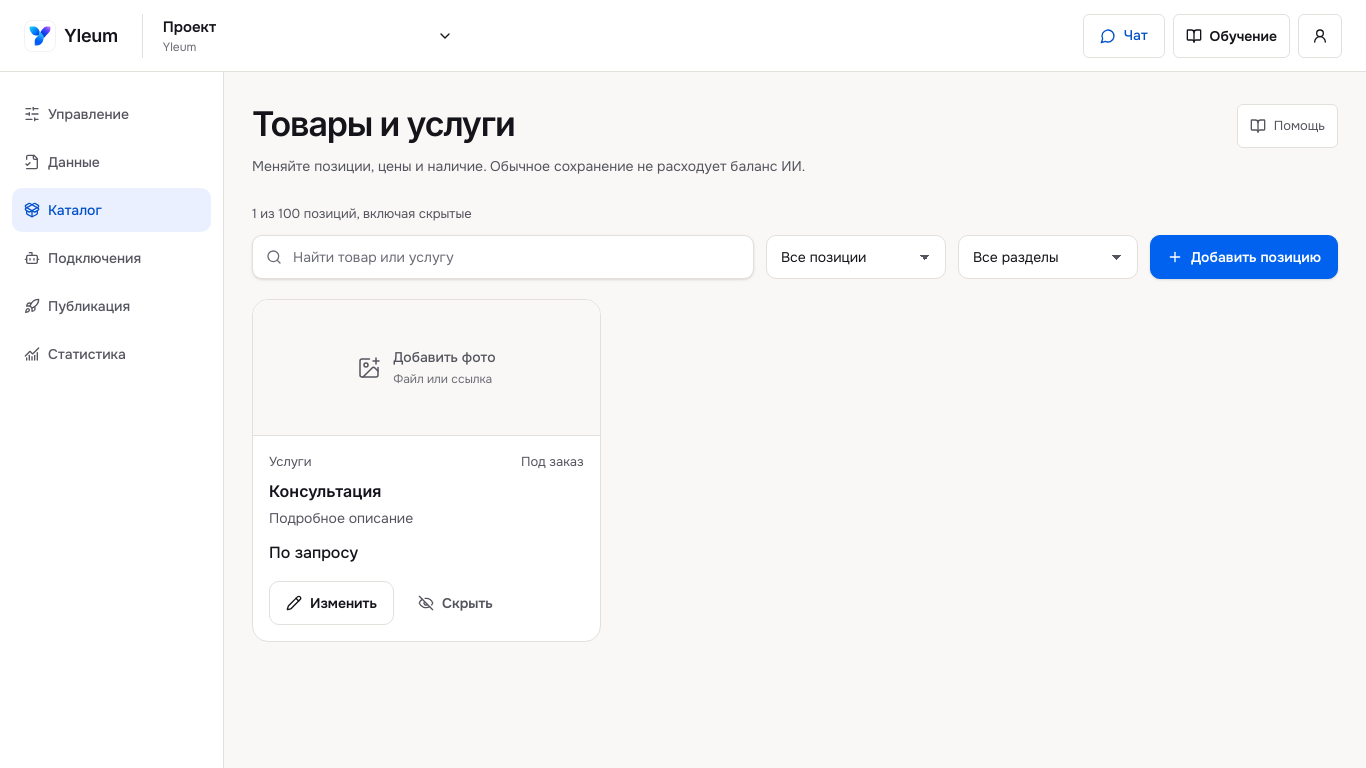
Test case: keeps the source catalog draft when the full configuration baseline has moved
Click the button "Скрыть". click: click(455, 603)
box: left=402, top=581, right=509, bottom=625
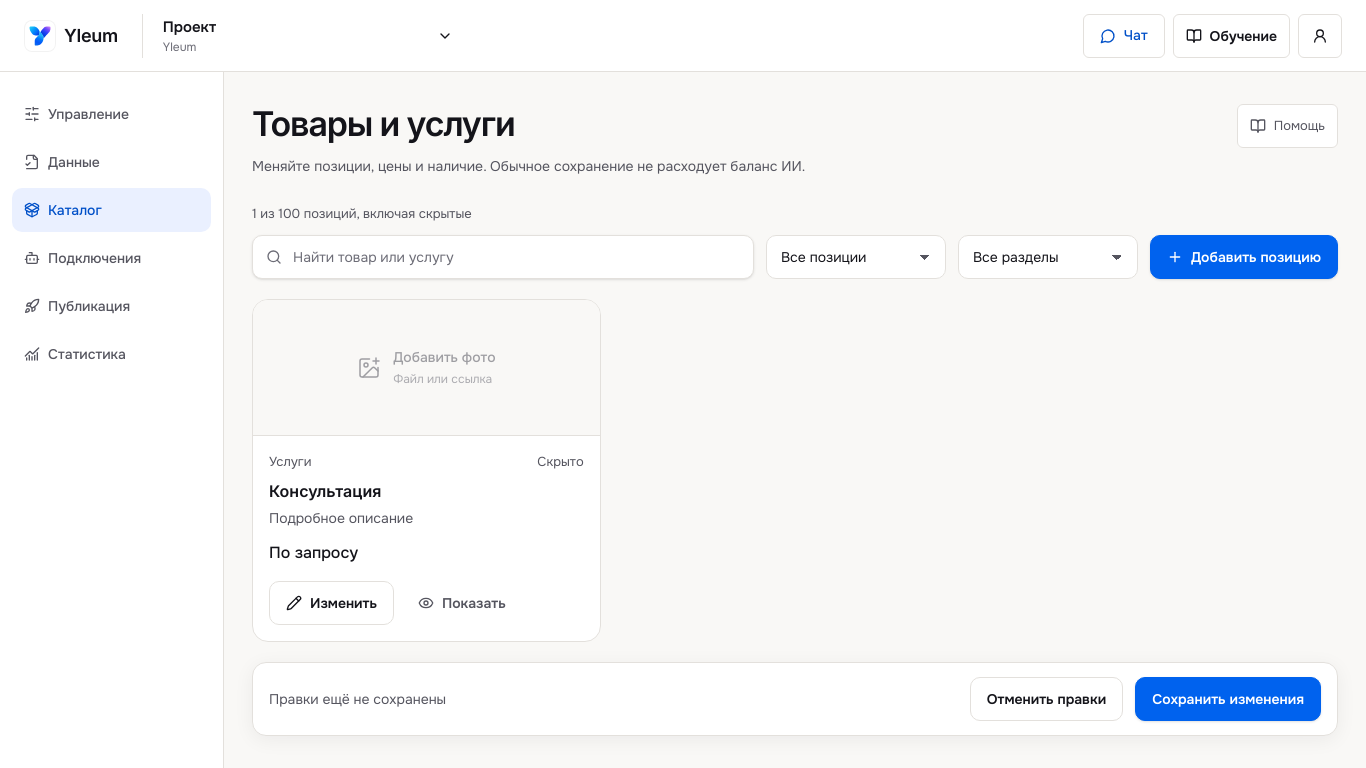
Click the button "Сохранить изменения". click: click(1228, 699)
box: left=1135, top=677, right=1321, bottom=721
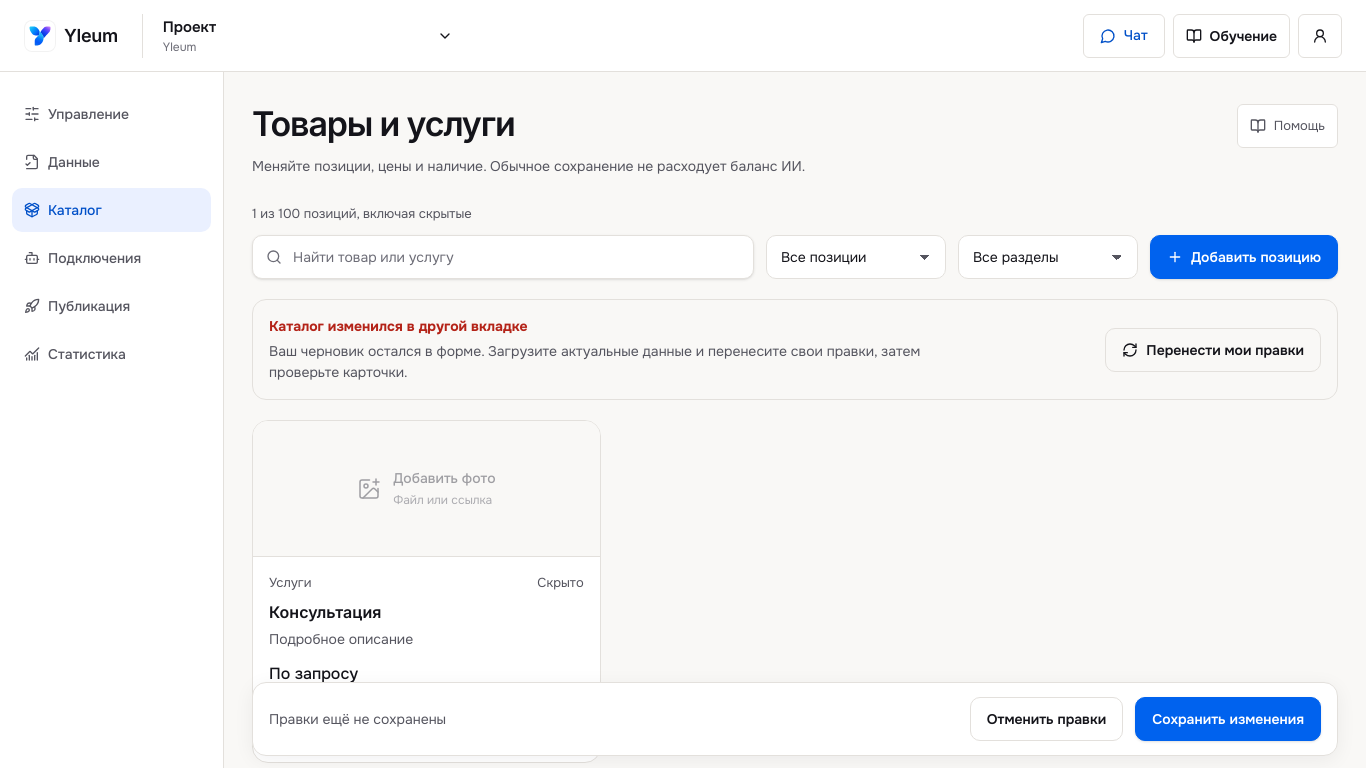
Now the text "Правки ещё не сохранены" is shown, box left=269, top=708, right=446, bottom=730
Now the message is shown, box left=252, top=299, right=1338, bottom=400
